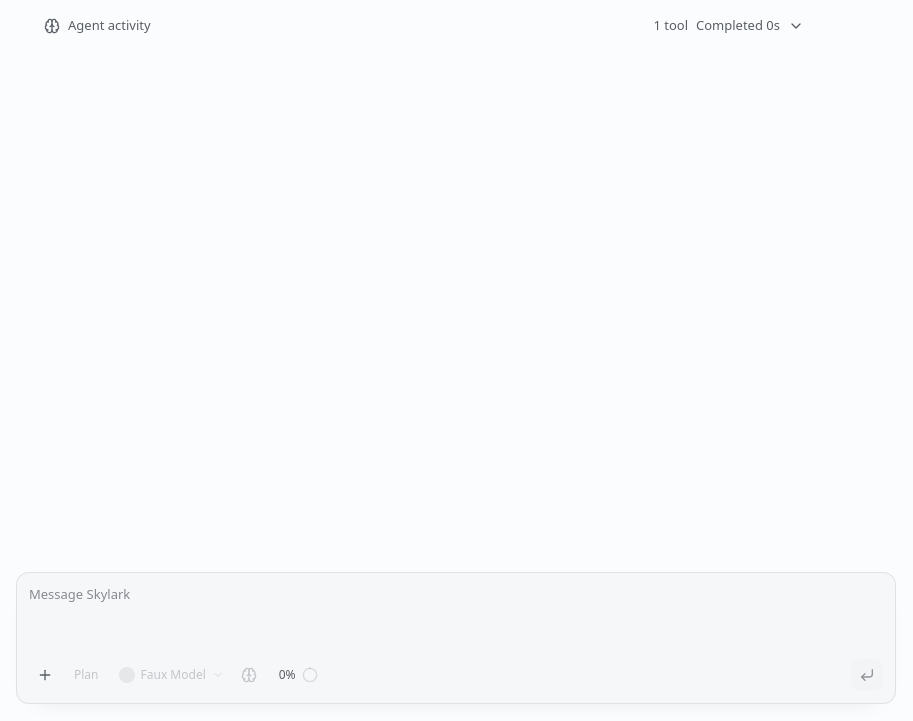
Test: ChatWorkbench › renders a persisted subagent activity row as a noninteractive task item
Click the button with aria-label "Agent activity Completed 0s" at (109, 25), box [44,16,804,36]
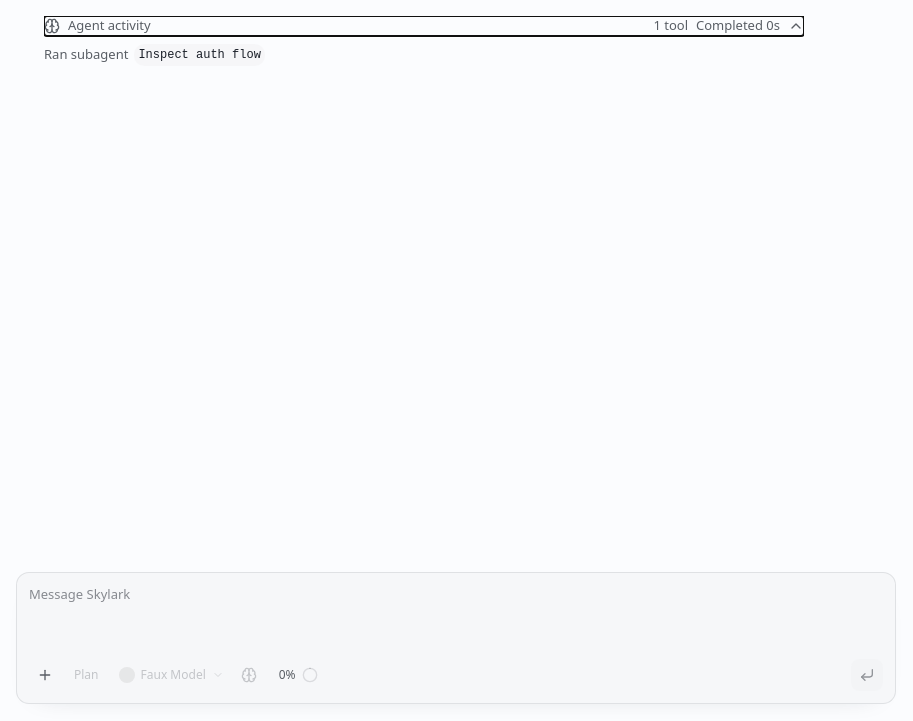
Expected: the text "Ran subagent" is shown, [44,45,128,63]
Expected: the text "Inspect auth flow" is shown, [134,44,265,66]
